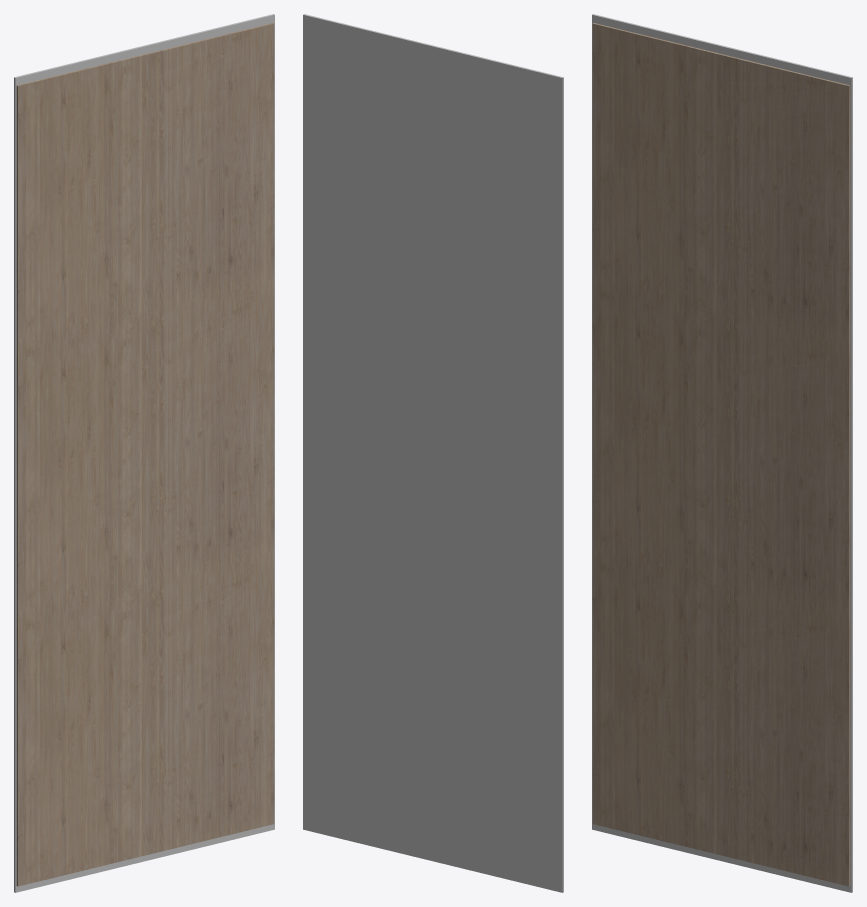
3 renders of one model, left to right at view 1: azimuth 30°, elevation 25°; view 2: azimuth 150°, elevation 25°; view 3: azimuth 330°, elevation 25°, orthographic.
Visible parts, largest first — view 1: M_W_010_h_4x12; view 2: M_W_010_h_4x12; view 3: M_W_010_h_4x12.
Boxes of the visible parts, box(x1,y1,x2,y2) form: M_W_010_h_4x12: box(14, 14, 274, 892); M_W_010_h_4x12: box(303, 14, 563, 892); M_W_010_h_4x12: box(592, 14, 852, 892).
Bounding box in the file's own units: 4 × 12 × 0.0596.
